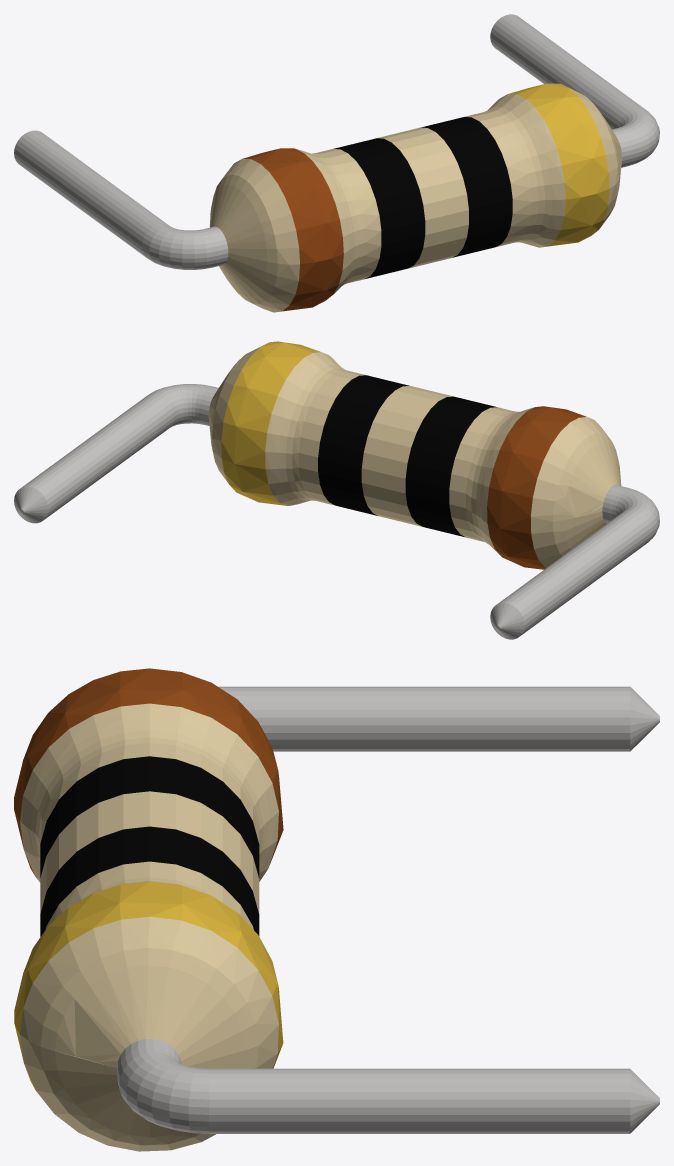
Rendered from Yageo CFR-25 Resistor Axial P7.62mm 10,0 Ohm.obj.
3 views of the same model, one above another, from view 1: azimuth 30°, elevation 25°; view 2: azimuth 150°, elevation 25°; view 3: azimuth 270°, elevation 25° (orthographic). The views are drawn at different scales.
Visible parts, largest first — view 1: Yageo_CFR-25_Resistor_Axial_P7.62mm_10,0_Ohm; view 2: Yageo_CFR-25_Resistor_Axial_P7.62mm_10,0_Ohm; view 3: Yageo_CFR-25_Resistor_Axial_P7.62mm_10,0_Ohm.
Boxes of the visible parts, x1,y1,x2,y2 form: Yageo_CFR-25_Resistor_Axial_P7.62mm_10,0_Ohm: (14, 14, 659, 312); Yageo_CFR-25_Resistor_Axial_P7.62mm_10,0_Ohm: (14, 341, 659, 639); Yageo_CFR-25_Resistor_Axial_P7.62mm_10,0_Ohm: (14, 668, 659, 1151).
Bounding box in the file's own units: 0.0246 × 0.00679 × 0.0164.
